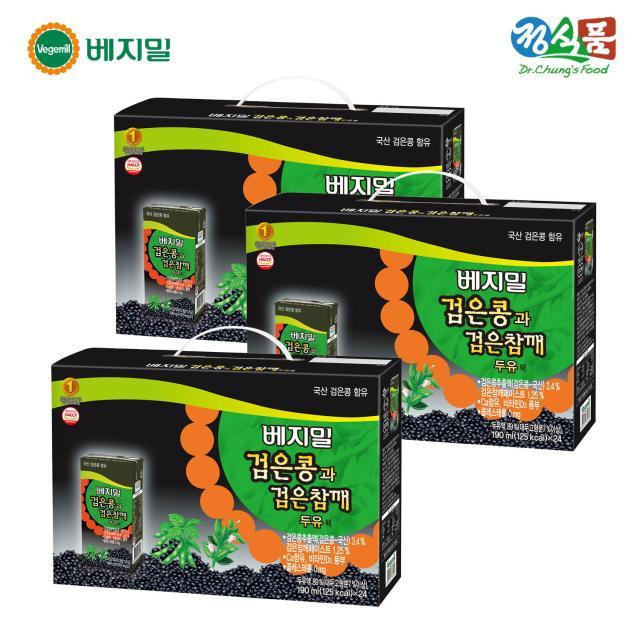Tetra: (68, 442, 152, 574), (133, 197, 214, 316)
